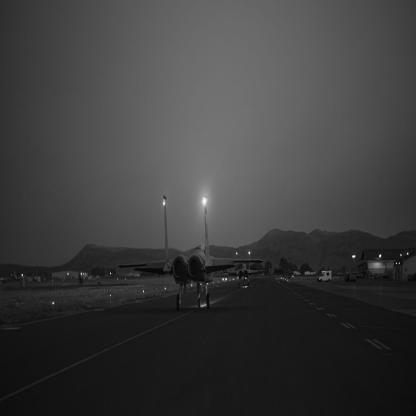F15: (119, 196, 265, 310), (221, 252, 268, 289)
